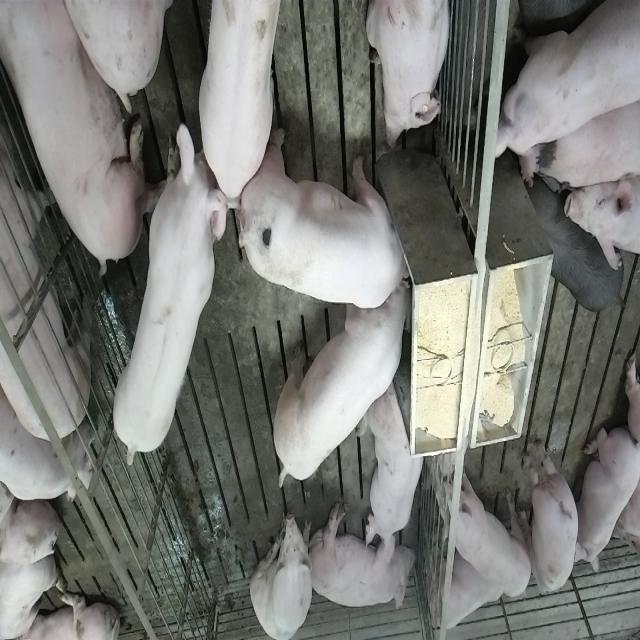Feeding: (243, 128, 420, 310), (268, 280, 411, 496)
Lateral_lying: (308, 499, 416, 614)
Sitting: (250, 503, 314, 638)
Standing: (0, 0, 94, 446), (112, 116, 231, 465), (492, 0, 638, 185), (202, 0, 288, 196), (526, 179, 626, 317), (0, 383, 97, 507), (442, 471, 534, 598), (535, 89, 640, 197), (566, 172, 640, 270)
Sternal_lying: (366, 0, 454, 150), (366, 382, 430, 560), (576, 425, 638, 575), (427, 546, 512, 636)
